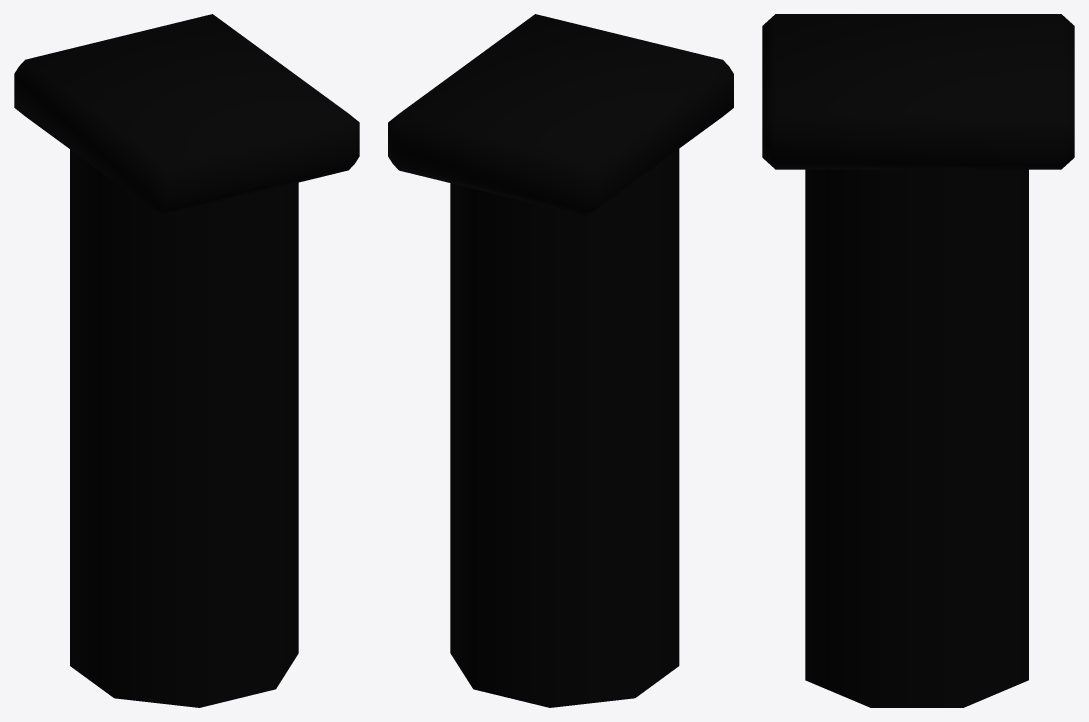
The picture shows the model from 3 angles, left to right: view 1: azimuth 30°, elevation 25°; view 2: azimuth 150°, elevation 25°; view 3: azimuth 270°, elevation 25°; orthographic projection. The views are drawn at different scales.
Parts seen in each view (by area): view 1: Joint_0_Object_0; view 2: Joint_0_Object_0; view 3: Joint_0_Object_0.
Boxes of the visible parts, x1=… form: Joint_0_Object_0: x1=14, y1=14, x2=359, y2=707; Joint_0_Object_0: x1=388, y1=14, x2=733, y2=707; Joint_0_Object_0: x1=762, y1=14, x2=1074, y2=707.
Size of the model in its own units: 170 by 444 by 209.
Materials: 1 (1 with a texture image).
